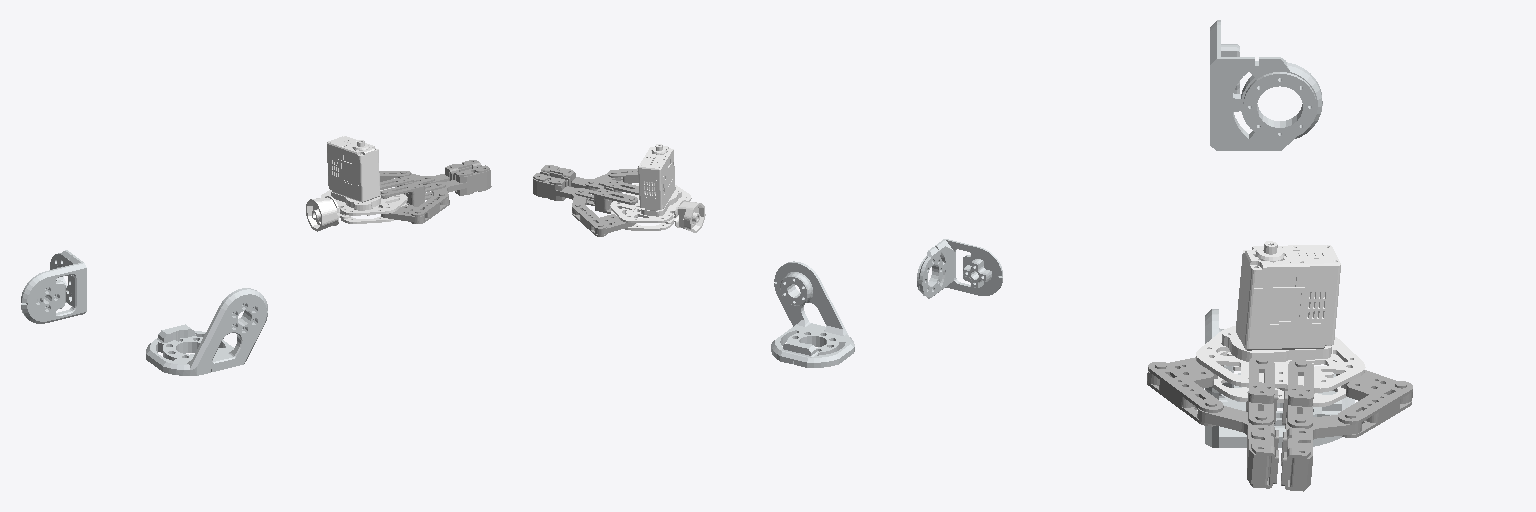
robot.urdf — v9test10:
<?xml version="1.0" encoding="utf-8" ?>
<!-- This URDF was automatically created by SolidWorks to URDF Exporter! Originally created by [author] ([email redacted]) 
     Commit Version: 1.6.0-4-g7f85cfe  Build Version: 1.6.7995.38578
     For more information, please see http://wiki.ros.org/sw_urdf_exporter -->
<robot name="v9test10">
    <link name="base_link">
        <inertial>
            <origin xyz="-0.0145588469474233 -0.00806139025040155 0.0153668637832205" rpy="0 0 0" />
            <mass value="1.47169868322375" />
            <inertia ixx="0.0122651487007531" ixy="-2.30751466734408E-09" ixz="1.458722930281E-10" iyy="0.00958348355299044" iyz="-9.5504586627101E-06" izz="0.0214293688345269" />
        </inertial>
        <visual>
            <origin xyz="0 0 0" rpy="0 0 0" />
            <geometry>
                <mesh filename="package://v9test10/meshes/base_link.STL" />
            </geometry>
            <material name="">
                <color rgba="0.698039215686274 0.698039215686274 0.698039215686274 1" />
            </material>
        </visual>
        <collision>
            <origin xyz="0 0 0" rpy="0 0 0" />
            <geometry>
                <mesh filename="package://v9test10/meshes/base_link.STL" />
            </geometry>
        </collision>
    </link>
    <link name="link1">
        <inertial>
            <origin xyz="0.0094908893214061 -0.0102059828936922 0.00690769545982223" rpy="0 0 0" />
            <mass value="0.106226032288269" />
            <inertia ixx="7.57648563242751E-05" ixy="1.76393508084018E-05" ixz="-2.05091106701881E-05" iyy="7.40639321483898E-05" iyz="1.97818949050727E-05" izz="8.72893416580638E-05" />
        </inertial>
        <visual>
            <origin xyz="0 0 0" rpy="0 0 0" />
            <geometry>
                <mesh filename="package://v9test10/meshes/link1.STL" />
            </geometry>
            <material name="">
                <color rgba="0.898039215686275 0.917647058823529 0.929411764705882 1" />
            </material>
        </visual>
        <collision>
            <origin xyz="0 0 0" rpy="0 0 0" />
            <geometry>
                <mesh filename="package://v9test10/meshes/link1.STL" />
            </geometry>
        </collision>
    </link>
    <joint name="joint1" type="revolute">
        <origin xyz="0.0368945502941359 -0.0080137664563706 0.0959800351586077" rpy="0 0 0" />
        <parent link="base_link" />
        <child link="link1" />
        <axis xyz="0 0 -1" />
        <limit lower="-3.1416" upper="3.1416" effort="0" velocity="0" />
    </joint>
    <link name="link2">
        <inertial>
            <origin xyz="0.0902273522494584 0.0145597195820644 -0.00211899271866102" rpy="0 0 0" />
            <mass value="0.531595178049922" />
            <inertia ixx="0.000368602051698147" ixy="-0.00045507854496013" ixz="1.36666860848429E-05" iyy="0.00181117452275595" iyz="3.75923780843414E-05" izz="0.00203094919495169" />
        </inertial>
        <visual>
            <origin xyz="0 0 0" rpy="0 0 0" />
            <geometry>
                <mesh filename="package://v9test10/meshes/link2.STL" />
            </geometry>
            <material name="">
                <color rgba="0.898039215686275 0.917647058823529 0.929411764705882 1" />
            </material>
        </visual>
        <collision>
            <origin xyz="0 0 0" rpy="0 0 0" />
            <geometry>
                <mesh filename="package://v9test10/meshes/link2.STL" />
            </geometry>
        </collision>
    </link>
    <joint name="joint2" type="revolute">
        <origin xyz="0.03 0.00801376645637061 0.032" rpy="1.5707963267949 0 3.14159265358979" />
        <parent link="link1" />
        <child link="link2" />
        <axis xyz="0 0 1" />
        <limit lower="0" upper="3.1416" effort="0" velocity="0" />
    </joint>
    <link name="link3">
        <inertial>
            <origin xyz="0.0172214415668831 -3.63588048612196E-05 0.0267160779974474" rpy="0 0 0" />
            <mass value="0.0463618351461468" />
            <inertia ixx="1.41424920354307E-05" ixy="2.68728572206113E-08" ixz="5.73989018792126E-06" iyy="2.19500379435154E-05" iyz="-2.48119073746492E-08" izz="2.07845780616096E-05" />
        </inertial>
        <visual>
            <origin xyz="0 0 0" rpy="0 0 0" />
            <geometry>
                <mesh filename="package://v9test10/meshes/link3.STL" />
            </geometry>
            <material name="">
                <color rgba="0.898039215686275 0.917647058823529 0.929411764705882 1" />
            </material>
        </visual>
        <collision>
            <origin xyz="0 0 0" rpy="0 0 0" />
            <geometry>
                <mesh filename="package://v9test10/meshes/link3.STL" />
            </geometry>
        </collision>
    </link>
    <joint name="joint3" type="revolute">
        <origin xyz="0.176568542494924 0.0565685424949235 0" rpy="3.14159265358979 0 3.14159265358979" />
        <parent link="link2" />
        <child link="link3" />
        <axis xyz="0 0 1" />
        <limit lower="0" upper="4.1888" effort="0" velocity="0" />
    </joint>
    <link name="link4">
        <inertial>
            <origin xyz="0.000292338190561958 0.00929789845756709 0.0454141153752586" rpy="0 0 0" />
            <mass value="0.198168160893727" />
            <inertia ixx="0.000200537158481411" ixy="4.30521483047432E-07" ixz="1.27014035741098E-06" iyy="0.000190985195412561" iyz="-4.04741513979443E-05" izz="7.99907425364091E-05" />
        </inertial>
        <visual>
            <origin xyz="0 0 0" rpy="0 0 0" />
            <geometry>
                <mesh filename="package://v9test10/meshes/link4.STL" />
            </geometry>
            <material name="">
                <color rgba="0.898039215686275 0.917647058823529 0.929411764705882 1" />
            </material>
        </visual>
        <collision>
            <origin xyz="0 0 0" rpy="0 0 0" />
            <geometry>
                <mesh filename="package://v9test10/meshes/link4.STL" />
            </geometry>
        </collision>
    </link>
    <joint name="joint4" type="revolute">
        <origin xyz="0.0360000000000001 0 0.00801376645636903" rpy="1.5707963267949 0 1.57079632679489" />
        <parent link="link3" />
        <child link="link4" />
        <axis xyz="0 0 1" />
        <limit lower="-3.1416" upper="3.1416" effort="0" velocity="0" />
    </joint>
    <link name="link5">
        <inertial>
            <origin xyz="-0.0500122807452609 -9.53903656470412E-05 -0.00475940406869639" rpy="0 0 0" />
            <mass value="0.265010940431533" />
            <inertia ixx="9.00675161793386E-05" ixy="2.59392656663115E-07" ixz="3.45286951345622E-05" iyy="0.000335315968969747" iyz="1.58883028700049E-07" izz="0.000356016836866907" />
        </inertial>
        <visual>
            <origin xyz="0 0 0" rpy="0 0 0" />
            <geometry>
                <mesh filename="package://v9test10/meshes/link5.STL" />
            </geometry>
            <material name="">
                <color rgba="0.792156862745098 0.819607843137255 0.933333333333333 1" />
            </material>
        </visual>
        <collision>
            <origin xyz="0 0 0" rpy="0 0 0" />
            <geometry>
                <mesh filename="package://v9test10/meshes/link5.STL" />
            </geometry>
        </collision>
    </link>
    <joint name="joint5" type="revolute">
        <origin xyz="0 -0.00801376645636905 0.1005" rpy="1.5707963267949 1.5707963267949 0" />
        <parent link="link4" />
        <child link="link5" />
        <axis xyz="0 0 1" />
        <limit lower="-1.5708" upper="1.5708" effort="0" velocity="0" />
    </joint>
    <link name="link6">
        <inertial>
            <origin xyz="0.0231488250050769 0.00274030473543679 -0.038382125778541" rpy="0 0 0" />
            <mass value="0.083066698001088" />
            <inertia ixx="1.69474229832804E-05" ixy="6.65809525880248E-08" ixz="8.95750520210014E-08" iyy="1.45204371038499E-05" iyz="-1.46659355218843E-06" izz="2.16658258500537E-05" />
        </inertial>
        <visual>
            <origin xyz="0 0 0" rpy="0 0 0" />
            <geometry>
                <mesh filename="package://v9test10/meshes/link6.STL" />
            </geometry>
            <material name="">
                <color rgba="1 1 1 1" />
            </material>
        </visual>
        <collision>
            <origin xyz="0 0 0" rpy="0 0 0" />
            <geometry>
                <mesh filename="package://v9test10/meshes/link6.STL" />
            </geometry>
        </collision>
    </link>
    <joint name="joint6" type="revolute">
        <origin xyz="-0.1205 0 -0.00801376645636905" rpy="1.5707963267949 0 1.5707963267949" />
        <parent link="link5" />
        <child link="link6" />
        <axis xyz="0 0 -1" />
        <limit lower="-3.1416" upper="3.1416" effort="0" velocity="0" />
    </joint>
    <link name="Left">
        <inertial>
            <origin xyz="0.0221275513532655 -0.0104978080688389 0.000252965594980031" rpy="0 0 0" />
            <mass value="0.00483059479337221" />
            <inertia ixx="2.57936210926745E-07" ixy="-1.12081800064016E-07" ixz="3.12385929239768E-22" iyy="3.54998727314474E-07" iyz="1.2573145310806E-22" izz="5.95838965476979E-07" />
        </inertial>
        <visual>
            <origin xyz="0 0 0" rpy="0 0 0" />
            <geometry>
                <mesh filename="package://v9test10/meshes/Left.STL" />
            </geometry>
            <material name="">
                <color rgba="0.752941176470588 0.752941176470588 0.752941176470588 1" />
            </material>
        </visual>
        <collision>
            <origin xyz="0 0 0" rpy="0 0 0" />
            <geometry>
                <mesh filename="package://v9test10/meshes/Left.STL" />
            </geometry>
        </collision>
    </link>
    <joint name="joint7" type="revolute">
        <origin xyz="-0.0022981 0.029905 -0.0505" rpy="3.0599 1.5708 0" />
        <parent link="link6" />
        <child link="Left" />
        <axis xyz="0 0 -1" />
        <limit lower="-1.05" upper="1.05" effort="0" velocity="0" />
    </joint>
    <link name="Right">
        <inertial>
            <origin xyz="0.0221275513532657 0.0104978080688385 -8.4321864993353E-05" rpy="0 0 0" />
            <mass value="0.00483059479337221" />
            <inertia ixx="2.57936210926753E-07" ixy="1.12081800064018E-07" ixz="-4.68580559424907E-23" iyy="3.54998727314466E-07" iyz="6.61744490042422E-24" izz="5.95838965476978E-07" />
        </inertial>
        <visual>
            <origin xyz="0 0 0" rpy="0 0 0" />
            <geometry>
                <mesh filename="package://v9test10/meshes/Right.STL" />
            </geometry>
            <material name="">
                <color rgba="0.752941176470588 0.752941176470588 0.752941176470588 1" />
            </material>
        </visual>
        <collision>
            <origin xyz="0 0 0" rpy="0 0 0" />
            <geometry>
                <mesh filename="package://v9test10/meshes/Right.STL" />
            </geometry>
        </collision>
    </link>
    <joint name="joint8" type="revolute">
        <origin xyz="0.0025971 -0.02988 -0.0505" rpy="3.0599 1.5708 0" />
        <parent link="link6" />
        <child link="Right" />
        <axis xyz="0 0 1" />
        <limit lower="-1.05" upper="1.05" effort="0" velocity="0" />
        <mimic joint="joint7" multiplier="1" offset="0" />
    </joint>
    <link name="left_in">
        <inertial>
            <origin xyz="0.0247144151353708 0.000244250748252781 0.0038" rpy="0 0 0" />
            <mass value="0.00385329907016037" />
            <inertia ixx="4.76384257579596E-08" ixy="-1.47569774166693E-21" ixz="-4.42868794100056E-23" iyy="2.95061914786719E-07" iyz="-6.61744490042422E-24" izz="3.2179999241693E-07" />
        </inertial>
        <visual>
            <origin xyz="0 0 0" rpy="0 0 0" />
            <geometry>
                <mesh filename="package://v9test10/meshes/left_in.STL" />
            </geometry>
            <material name="">
                <color rgba="0.752941176470588 0.752941176470588 0.752941176470588 1" />
            </material>
        </visual>
        <collision>
            <origin xyz="0 0 0" rpy="0 0 0" />
            <geometry>
                <mesh filename="package://v9test10/meshes/left_in.STL" />
            </geometry>
        </collision>
    </link>
    <joint name="joint9" type="revolute">
        <origin xyz="0.0030937 0.0087817 -0.060003" rpy="3.0599 1.5708 0" />
        <parent link="link6" />
        <child link="left_in" />
        <axis xyz="0 0 1" />
        <limit lower="-1.05" upper="1.05" effort="0" velocity="0" />
        <mimic joint="joint7" multiplier="-1" offset="0" />
    </joint>
    <link name="left_finger">
        <inertial>
            <origin xyz="0.0220433818619215 -0.00172555981608204 -9.69732760086606E-06" rpy="0 0 0" />
            <mass value="0.0068377906449221" />
            <inertia ixx="2.81244658871513E-07" ixy="-2.62966712225836E-07" ixz="-3.27778830478267E-23" iyy="1.17644908529563E-06" iyz="-3.97046694025453E-23" izz="1.3385973317774E-06" />
        </inertial>
        <visual>
            <origin xyz="0 0 0" rpy="0 0 0" />
            <geometry>
                <mesh filename="package://v9test10/meshes/left_finger.STL" />
            </geometry>
            <material name="">
                <color rgba="0.752941176470588 0.752941176470588 0.752941176470588 1" />
            </material>
        </visual>
        <collision>
            <origin xyz="0 0 0" rpy="0 0 0" />
            <geometry>
                <mesh filename="package://v9test10/meshes/left_finger.STL" />
            </geometry>
        </collision>
    </link>
    <joint name="joint11" type="revolute">
        <origin xyz="0.049 0 0.00395" rpy="0 0 0" />
        <parent link="left_in" />
        <child link="left_finger" />
        <axis xyz="0 0 -1" />
        <limit lower="-1.05" upper="1.05" effort="0" velocity="0" />
        <mimic joint="joint9" multiplier="1" offset="0" />
    </joint>
    <link name="right_in">
        <inertial>
            <origin xyz="0.024714 -0.00024425 0.0038" rpy="0 0 0" />
            <mass value="0.0038533" />
            <inertia ixx="4.7638E-08" ixy="7.8088E-21" ixz="4.3199E-23" iyy="2.9506E-07" iyz="-1.6544E-24" izz="3.218E-07" />
        </inertial>
        <visual>
            <origin xyz="0 0 0" rpy="0 0 0" />
            <geometry>
                <mesh filename="package://v9test10/meshes/right_in.STL" />
            </geometry>
            <material name="">
                <color rgba="0.75294 0.75294 0.75294 1" />
            </material>
        </visual>
        <collision>
            <origin xyz="0 0 0" rpy="0 0 0" />
            <geometry>
                <mesh filename="package://v9test10/meshes/right_in.STL" />
            </geometry>
        </collision>
    </link>
    <joint name="joint10" type="revolute">
        <origin xyz="0.004481 -0.0081616 -0.060003" rpy="3.0599 1.5708 0" />
        <parent link="link6" />
        <child link="right_in" />
        <axis xyz="0 0 1" />
        <limit lower="-1.05" upper="1.05" effort="0" velocity="0" />
        <mimic joint="joint7" multiplier="1" offset="0" />
    </joint>
    <link name="right_finger">
        <inertial>
            <origin xyz="0.022043 0.0017256 9.6973E-06" rpy="0 0 0" />
            <mass value="0.0068378" />
            <inertia ixx="2.8124E-07" ixy="2.6297E-07" ixz="7.3101E-23" iyy="1.1764E-06" iyz="-7.2792E-23" izz="1.3386E-06" />
        </inertial>
        <visual>
            <origin xyz="0 0 0" rpy="0 0 0" />
            <geometry>
                <mesh filename="package://v9test10/meshes/right_finger.STL" />
            </geometry>
            <material name="">
                <color rgba="0.75294 0.75294 0.75294 1" />
            </material>
        </visual>
        <collision>
            <origin xyz="0 0 0" rpy="0 0 0" />
            <geometry>
                <mesh filename="package://v9test10/meshes/right_finger.STL" />
            </geometry>
        </collision>
    </link>
    <joint name="joint12" type="revolute">
        <origin xyz="0.049 0 0.00365" rpy="0 0 0" />
        <parent link="right_in" />
        <child link="right_finger" />
        <axis xyz="0 0 1" />
        <limit lower="-1.05" upper="1.05" effort="0" velocity="0" />
        <mimic joint="joint9" multiplier="1" offset="0" />
    </joint>
    <transmission name="trans_joint1">
        <type>transmission_interface/SimpleTransmission</type>
        <joint name="joint1">
            <hardwareInterface>hardware_interface/EffortJointInterface</hardwareInterface>
        </joint>
        <actuator name="joint1_motor">
            <hardwareInterface>hardware_interface/EffortJointInterface</hardwareInterface>
            <mechanicalReduction>1</mechanicalReduction>
        </actuator>
    </transmission>
    <transmission name="trans_joint2">
        <type>transmission_interface/SimpleTransmission</type>
        <joint name="joint2">
            <hardwareInterface>hardware_interface/EffortJointInterface</hardwareInterface>
        </joint>
        <actuator name="joint2_motor">
            <hardwareInterface>hardware_interface/EffortJointInterface</hardwareInterface>
            <mechanicalReduction>1</mechanicalReduction>
        </actuator>
    </transmission>
    <transmission name="trans_joint3">
        <type>transmission_interface/SimpleTransmission</type>
        <joint name="joint3">
            <hardwareInterface>hardware_interface/EffortJointInterface</hardwareInterface>
        </joint>
        <actuator name="joint3_motor">
            <hardwareInterface>hardware_interface/EffortJointInterface</hardwareInterface>
            <mechanicalReduction>1</mechanicalReduction>
        </actuator>
    </transmission>
    <transmission name="trans_joint4">
        <type>transmission_interface/SimpleTransmission</type>
        <joint name="joint4">
            <hardwareInterface>hardware_interface/EffortJointInterface</hardwareInterface>
        </joint>
        <actuator name="joint4_motor">
            <hardwareInterface>hardware_interface/EffortJointInterface</hardwareInterface>
            <mechanicalReduction>1</mechanicalReduction>
        </actuator>
    </transmission>
    <transmission name="trans_joint5">
        <type>transmission_interface/SimpleTransmission</type>
        <joint name="joint5">
            <hardwareInterface>hardware_interface/EffortJointInterface</hardwareInterface>
        </joint>
        <actuator name="joint5_motor">
            <hardwareInterface>hardware_interface/EffortJointInterface</hardwareInterface>
            <mechanicalReduction>1</mechanicalReduction>
        </actuator>
    </transmission>
    <transmission name="trans_joint6">
        <type>transmission_interface/SimpleTransmission</type>
        <joint name="joint6">
            <hardwareInterface>hardware_interface/EffortJointInterface</hardwareInterface>
        </joint>
        <actuator name="joint6_motor">
            <hardwareInterface>hardware_interface/EffortJointInterface</hardwareInterface>
            <mechanicalReduction>1</mechanicalReduction>
        </actuator>
    </transmission>
    <transmission name="trans_joint7">
        <type>transmission_interface/SimpleTransmission</type>
        <joint name="joint7">
            <hardwareInterface>hardware_interface/EffortJointInterface</hardwareInterface>
        </joint>
        <actuator name="joint7_motor">
            <hardwareInterface>hardware_interface/EffortJointInterface</hardwareInterface>
            <mechanicalReduction>1</mechanicalReduction>
        </actuator>
    </transmission>
    <transmission name="trans_joint8">
        <type>transmission_interface/SimpleTransmission</type>
        <joint name="joint8">
            <hardwareInterface>hardware_interface/EffortJointInterface</hardwareInterface>
        </joint>
        <actuator name="joint8_motor">
            <hardwareInterface>hardware_interface/EffortJointInterface</hardwareInterface>
            <mechanicalReduction>1</mechanicalReduction>
        </actuator>
    </transmission>
    <transmission name="trans_joint9">
        <type>transmission_interface/SimpleTransmission</type>
        <joint name="joint9">
            <hardwareInterface>hardware_interface/EffortJointInterface</hardwareInterface>
        </joint>
        <actuator name="joint9_motor">
            <hardwareInterface>hardware_interface/EffortJointInterface</hardwareInterface>
            <mechanicalReduction>1</mechanicalReduction>
        </actuator>
    </transmission>
    <transmission name="trans_joint11">
        <type>transmission_interface/SimpleTransmission</type>
        <joint name="joint11">
            <hardwareInterface>hardware_interface/EffortJointInterface</hardwareInterface>
        </joint>
        <actuator name="joint11_motor">
            <hardwareInterface>hardware_interface/EffortJointInterface</hardwareInterface>
            <mechanicalReduction>1</mechanicalReduction>
        </actuator>
    </transmission>
    <transmission name="trans_joint10">
        <type>transmission_interface/SimpleTransmission</type>
        <joint name="joint10">
            <hardwareInterface>hardware_interface/EffortJointInterface</hardwareInterface>
        </joint>
        <actuator name="joint10_motor">
            <hardwareInterface>hardware_interface/EffortJointInterface</hardwareInterface>
            <mechanicalReduction>1</mechanicalReduction>
        </actuator>
    </transmission>
    <transmission name="trans_joint12">
        <type>transmission_interface/SimpleTransmission</type>
        <joint name="joint12">
            <hardwareInterface>hardware_interface/EffortJointInterface</hardwareInterface>
        </joint>
        <actuator name="joint12_motor">
            <hardwareInterface>hardware_interface/EffortJointInterface</hardwareInterface>
            <mechanicalReduction>1</mechanicalReduction>
        </actuator>
    </transmission>
    <gazebo>
        <plugin name="gazebo_ros_control">
            <robotNamespace>/</robotNamespace>
        </plugin>
    </gazebo>
</robot>

--- What the picture shows (computed from the rendered views, not written in the file) ---
The picture shows the robot from 3 angles, left to right: view 1: azimuth 30°, elevation 25°; view 2: azimuth 150°, elevation 25°; view 3: azimuth 270°, elevation 25°; orthographic projection.
Model v9test10 with 13 links and 12 joints (12 revolute), rooted at base_link, posed every joint at zero.
Visible links, largest first — view 1: link1, link6, link3, right_finger, Right, right_in; view 2: link1, link6, link3, left_finger, Left, left_in, right_finger; view 3: link6, link3, Left, Right, right_finger, left_finger, link1, left_in, right_in.
Link boxes in pixels (left/top/right/bottom): link1: left=146, top=288, right=267, bottom=375; link6: left=306, top=136, right=407, bottom=231; link3: left=21, top=250, right=86, bottom=323; right_finger: left=432, top=165, right=491, bottom=204; Right: left=381, top=192, right=449, bottom=223; right_in: left=380, top=182, right=445, bottom=206; link1: left=771, top=261, right=854, bottom=367; link6: left=610, top=144, right=705, bottom=232; link3: left=917, top=239, right=1002, bottom=298; left_finger: left=533, top=173, right=587, bottom=214; Left: left=572, top=202, right=635, bottom=236; left_in: left=575, top=188, right=638, bottom=217; right_finger: left=540, top=165, right=620, bottom=190; link6: left=1196, top=241, right=1365, bottom=406; link3: left=1210, top=20, right=1322, bottom=150; Left: left=1336, top=370, right=1412, bottom=437; Right: left=1147, top=357, right=1223, bottom=426; right_finger: left=1197, top=406, right=1278, bottom=488; left_finger: left=1281, top=415, right=1361, bottom=491; link1: left=1205, top=309, right=1354, bottom=447; left_in: left=1282, top=359, right=1313, bottom=431; right_in: left=1246, top=357, right=1277, bottom=425.
Bounding box of the posed robot: 0.433 × 0.1157 × 0.1551 m (x, y, z).
9 mesh visuals loaded from 13 distinct referenced files (9 binary STL); not drawn: 4 (reference not matched to a file when rendering).